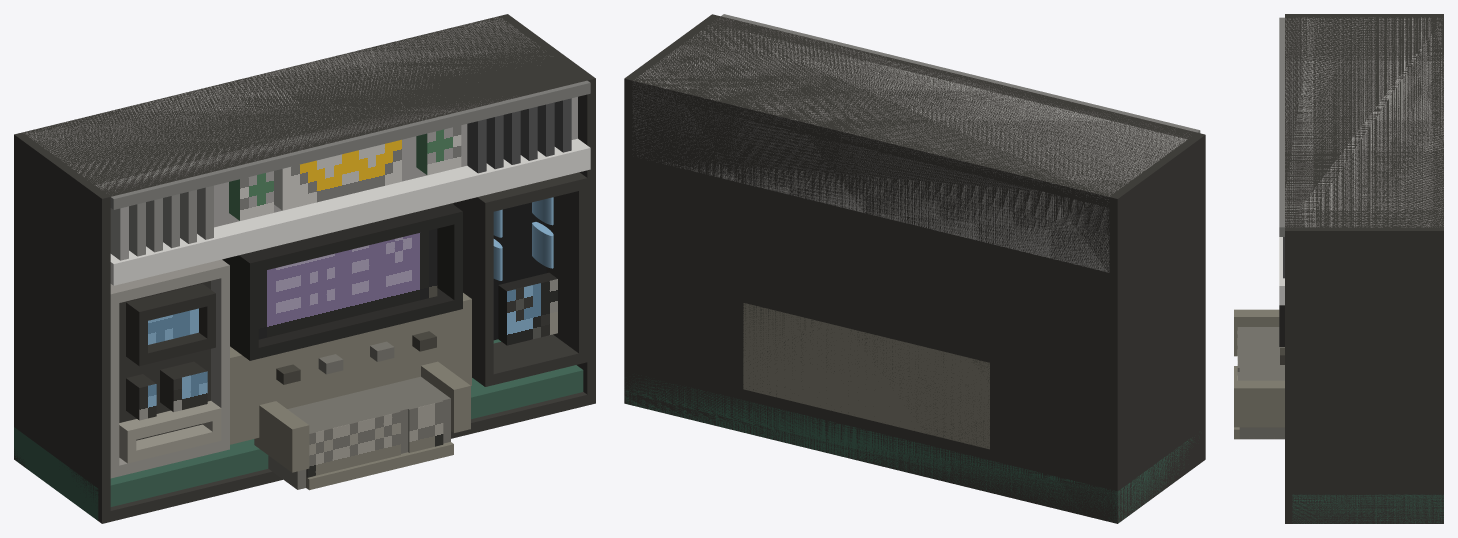
File: CMU3DChemSimulatorCloud.glb
The picture shows the model from 3 angles, left to right: view 1: azimuth 30°, elevation 25°; view 2: azimuth 150°, elevation 25°; view 3: azimuth 270°, elevation 25°; orthographic projection. The views are drawn at different scales.
Visible parts, largest first — view 1: case roof, left full depth casing, header lower rail, central controls backing, header solid backing, purple simulator readout source detail, wide green plinth, header upper rail, keyboard tray foundation, right analysis tower right, central original brand emblem source detail, large purple display bezel top (+46 smaller); view 2: cabinet rear, case roof, header solid backing, left full depth casing, central controls backing, left instrument fascia substrate, wide green plinth, right full depth casing, header upper rail, case floor; view 3: right full depth casing, case roof, header solid backing, header upper rail, wide green plinth, keyboard tray foundation, keyboard right rim, cabinet rear, keyboard left rim, left full depth casing, keyboard main key grid substrate, header lower rail.
Part boxes in pixels (x1,y1,x2,y2): case roof: (23,16,586,196); left full depth casing: (14,132,110,523); header lower rail: (110,138,590,285); central controls backing: (230,293,471,444); header solid backing: (24,17,577,227); purple simulator readout source detail: (258,228,437,339); wide green plinth: (14,339,583,520); header upper rail: (95,80,590,209); keyboard tray foundation: (268,376,450,489); right analysis tower right: (547,189,587,353); central original brand emblem source detail: (282,139,401,210); large purple display bezel top: (228,203,462,274); cabinet rear: (632,76,1114,521); case roof: (633,16,1196,207); header solid backing: (632,25,1187,272); left full depth casing: (1109,132,1205,523); central controls backing: (743,303,989,449); left instrument fascia substrate: (998,278,1100,465); wide green plinth: (624,375,1194,522); right full depth casing: (624,14,720,405); header upper rail: (712,14,1200,137); case floor: (632,395,1107,520); right full depth casing: (1285,227,1443,523); case roof: (1285,17,1443,227); header solid backing: (1302,17,1443,227); header upper rail: (1279,17,1313,236); wide green plinth: (1292,494,1443,523); keyboard tray foundation: (1239,327,1284,439); keyboard right rim: (1234,380,1284,427); cabinet rear: (1432,17,1443,227); keyboard left rim: (1234,309,1279,356); left full depth casing: (1285,14,1443,17); keyboard main key grid substrate: (1238,327,1246,371); header lower rail: (1279,237,1284,305).
Size of the model in its own units: 1.81 by 1.14 by 0.74.
Materials: 31 (10 with a texture image).
